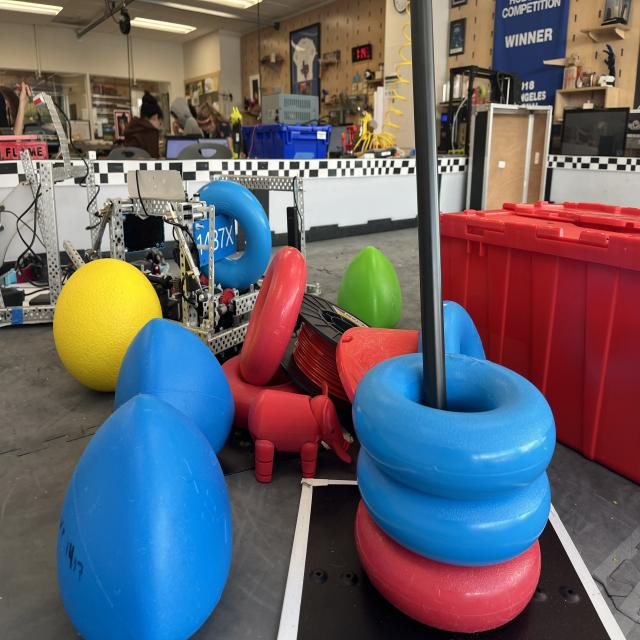Blue-Ring: (352, 353, 555, 500), (358, 447, 551, 567), (199, 180, 271, 290), (444, 300, 485, 360)
Red-Ring: (355, 500, 541, 632), (240, 247, 306, 385), (401, 575, 402, 577)
